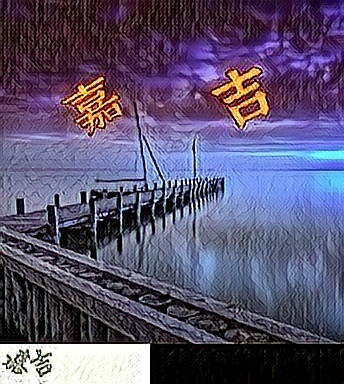BCAA: (210, 64, 272, 128)
BCCE: (60, 74, 122, 138)
